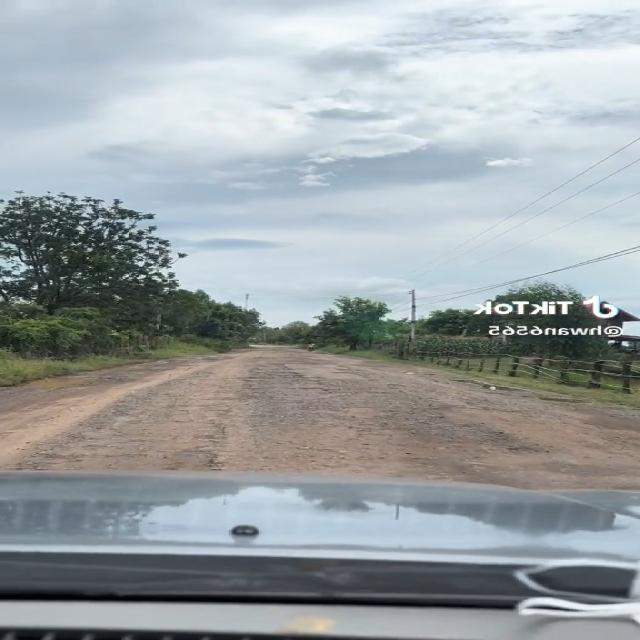Poth-hole: (130, 402, 294, 462)
